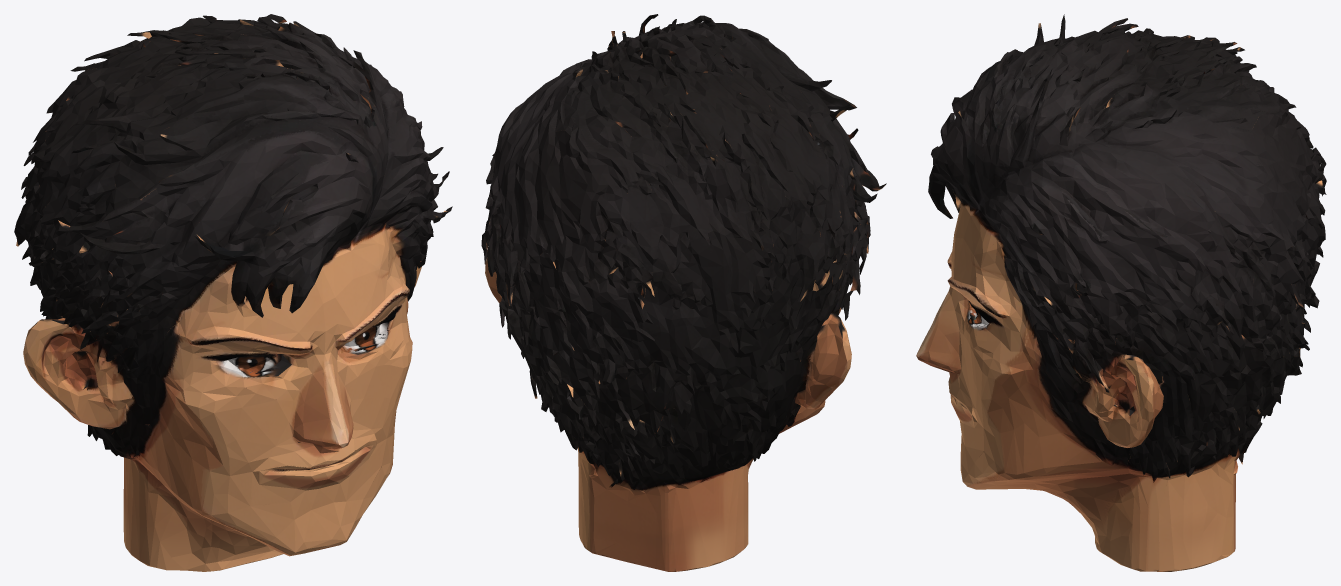
File: side_drummer_repaired_atlas.glb
3 views of the same model, side by side, from view 1: azimuth 30°, elevation 25°; view 2: azimuth 150°, elevation 25°; view 3: azimuth 270°, elevation 25° (orthographic). The views are drawn at different scales.
Parts seen in each view (by area): view 1: temp_mesh.ply; view 2: temp_mesh.ply; view 3: temp_mesh.ply.
Boxes of the visible parts, box(x1,y1,x2,y2) form: temp_mesh.ply: box(14, 14, 452, 571); temp_mesh.ply: box(481, 14, 886, 571); temp_mesh.ply: box(916, 14, 1326, 571).
Bounding box in the file's own units: 1.59 × 1.97 × 1.49.
Materials: 1 (1 with a texture image).
